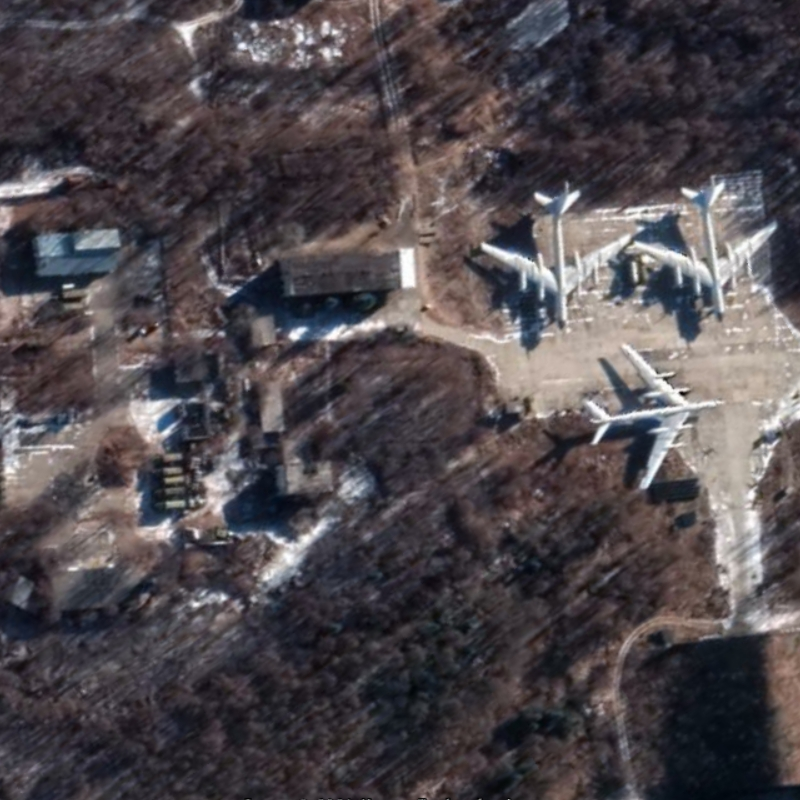A17: (474, 178, 634, 335), (580, 337, 731, 494), (630, 179, 780, 326)
